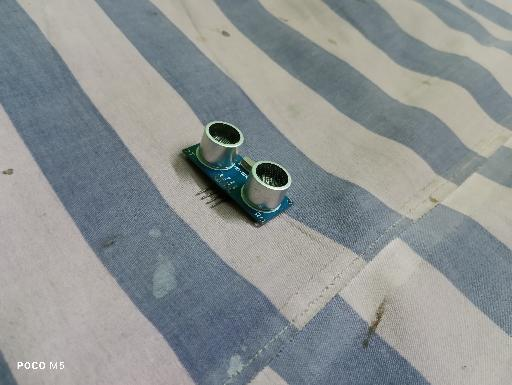sensor: (181, 120, 295, 227)
